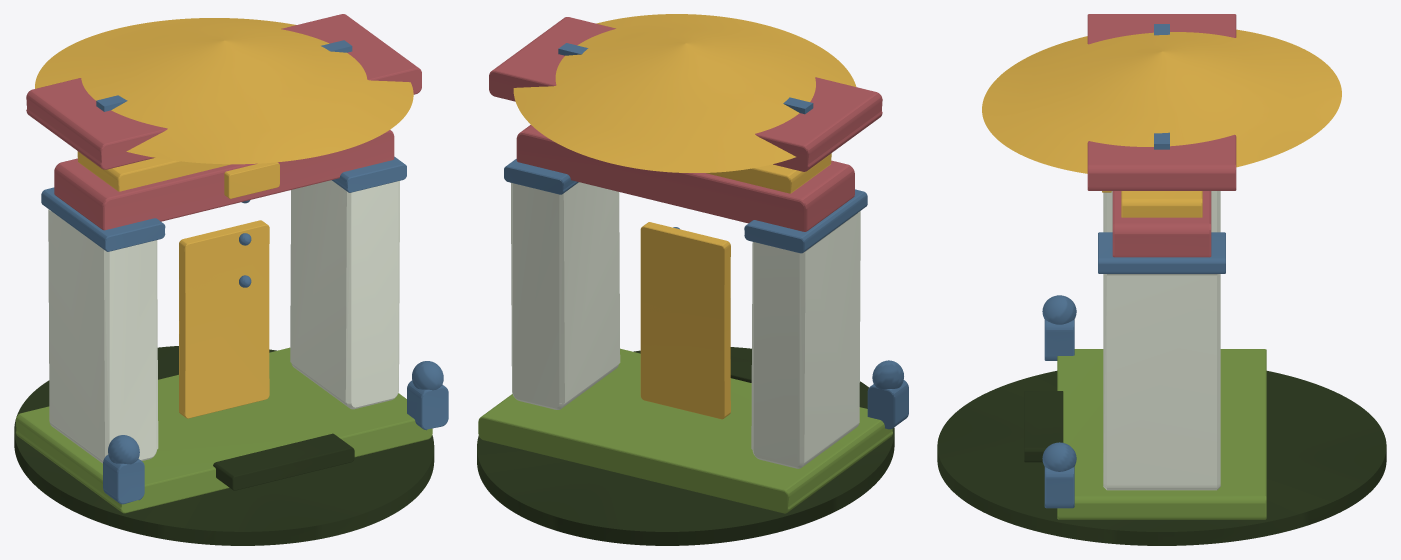
Rendered from 1276_三国演义1_卧龙冈草庐.glb.
3 views of the same model, side by side, from view 1: azimuth 30°, elevation 25°; view 2: azimuth 150°, elevation 25°; view 3: azimuth 270°, elevation 25° (orthographic).
Parts seen in each view (by area): view 1: card_1276; view 2: card_1276; view 3: card_1276.
Boxes of the visible parts, bbox=[...] form: card_1276: bbox=[14, 14, 448, 545]; card_1276: bbox=[477, 14, 908, 545]; card_1276: bbox=[937, 14, 1386, 545].
Size of the model in its own units: 0.8981 by 1 by 0.9958.
